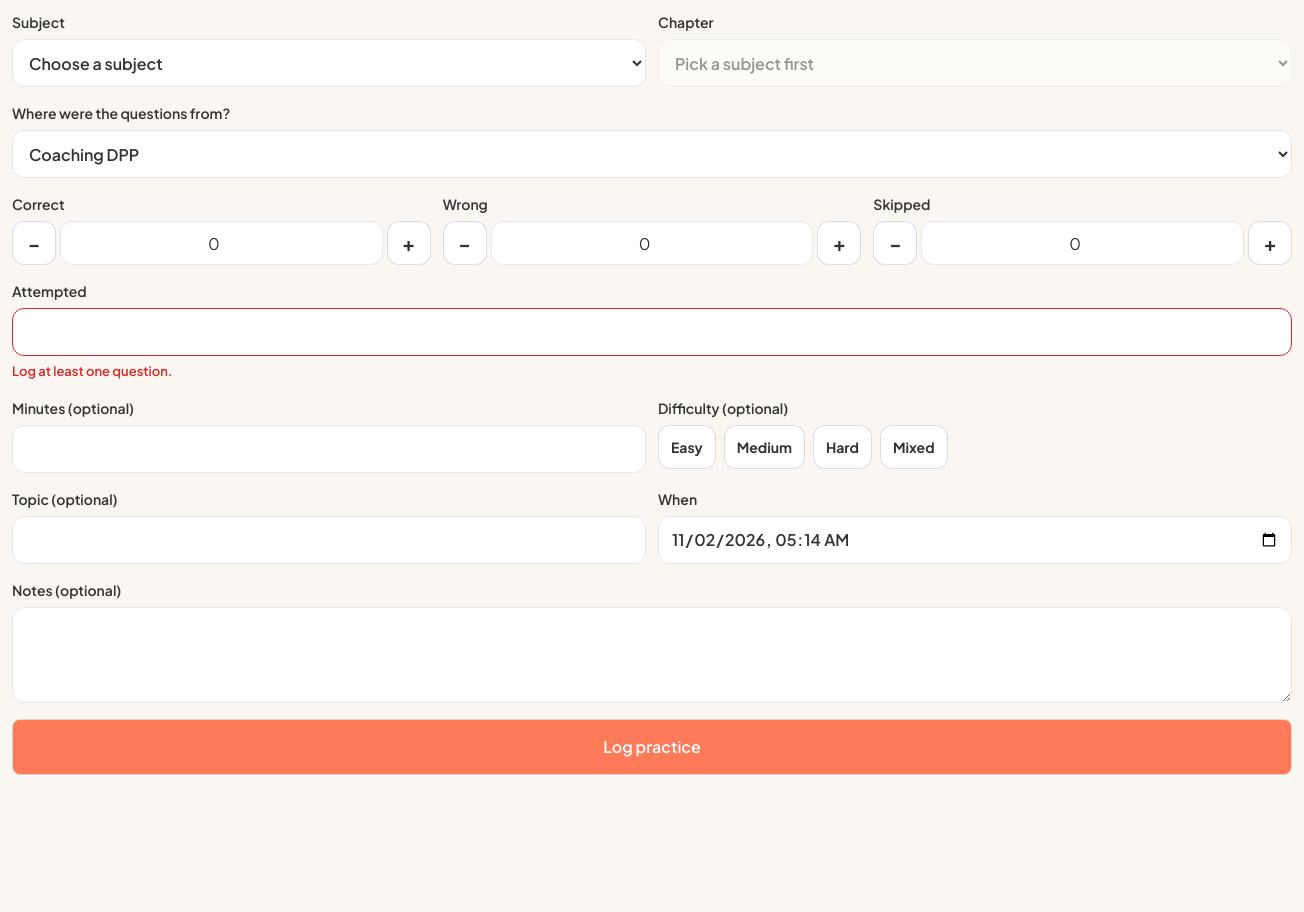
it: PracticeForm › fills `attempted` from correct + wrong + skipped and shows the sum and accuracy
Select "Physics" in the dropdown labelled "Subject": point(329, 63) [12, 39, 646, 87]
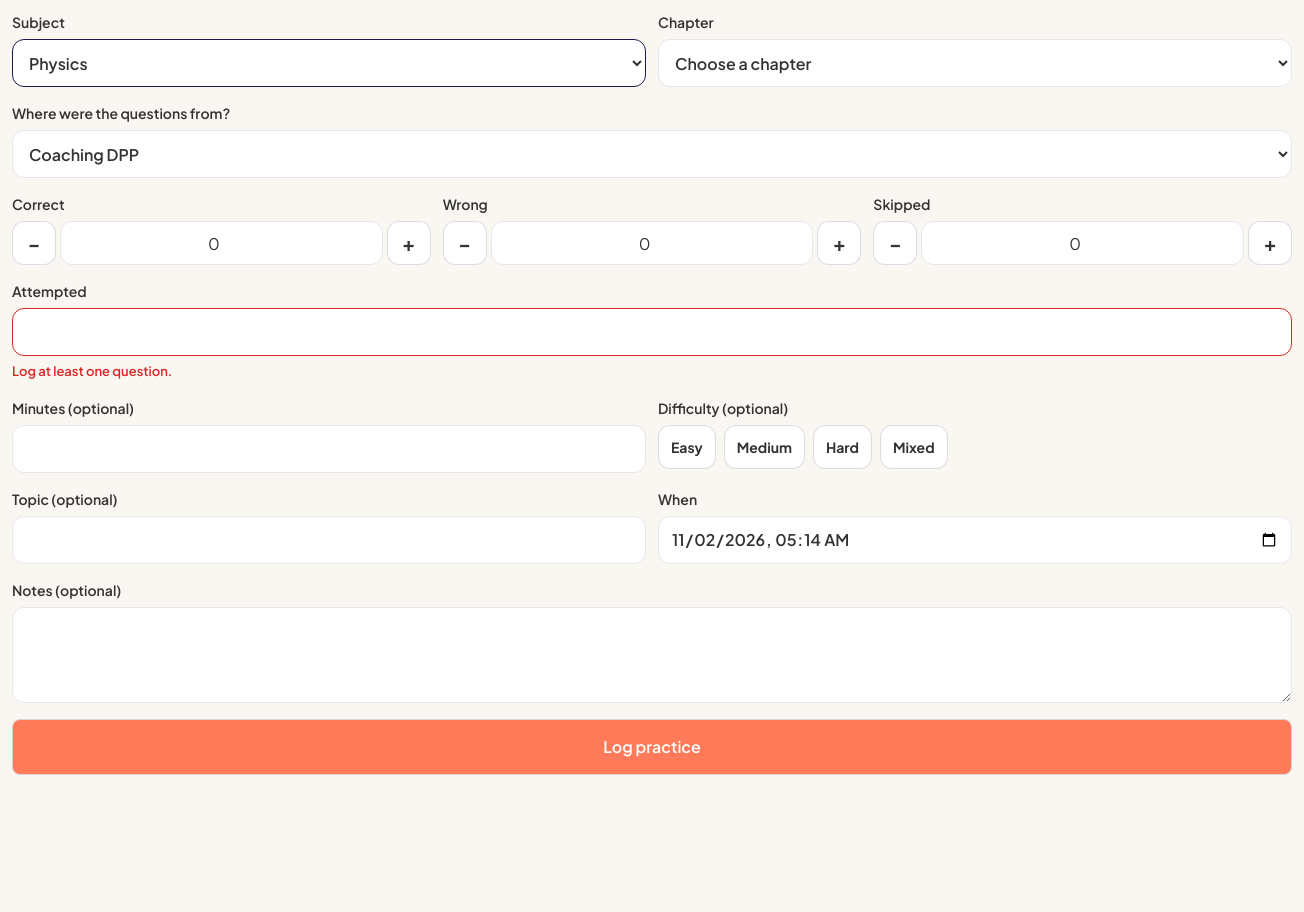
Select "Kinematics" in the dropdown labelled "Chapter": point(975, 63) [658, 39, 1292, 87]
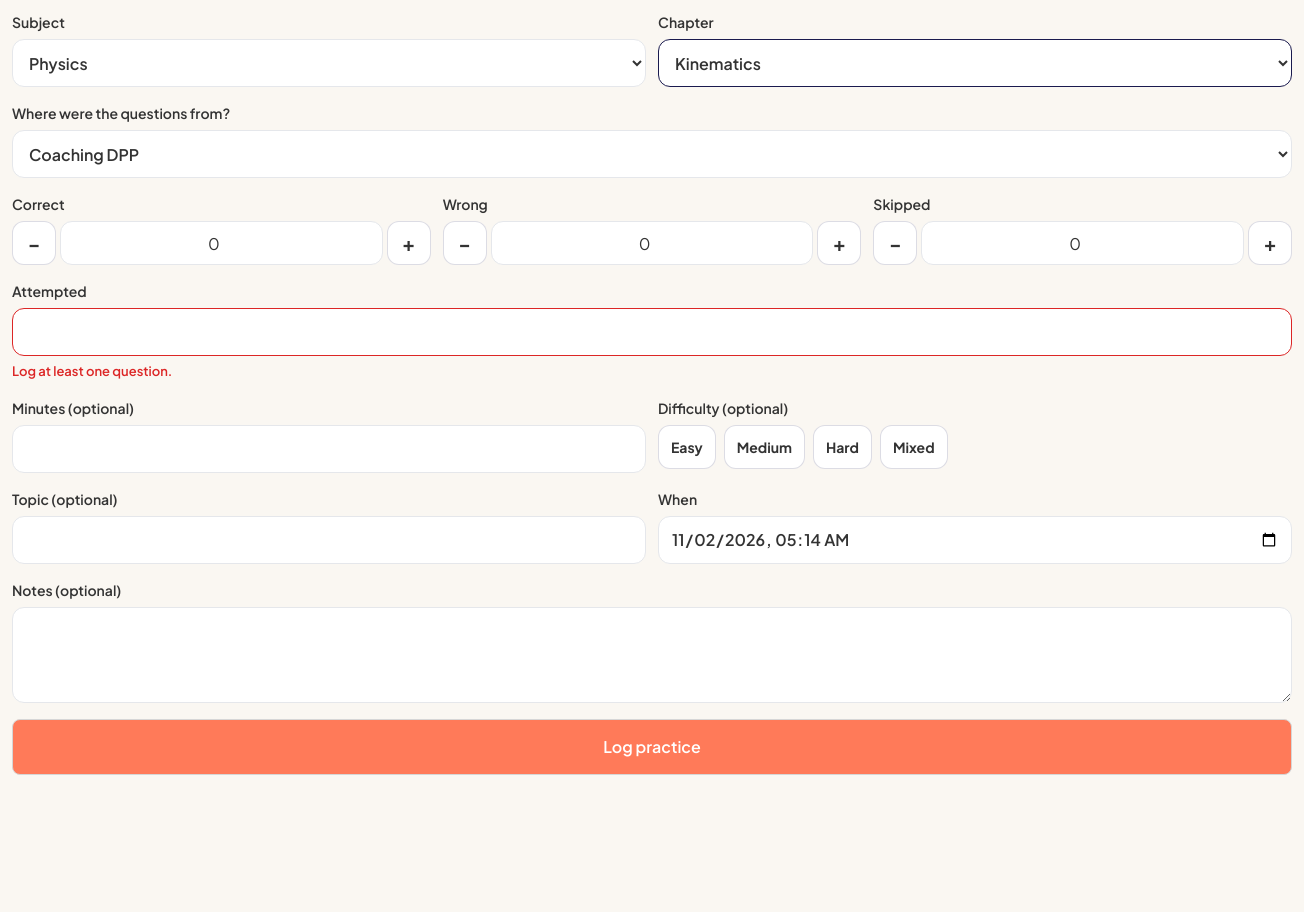
Replace the text in the number field with test id "prac-correct" with "7": point(221, 243) [60, 221, 383, 265]
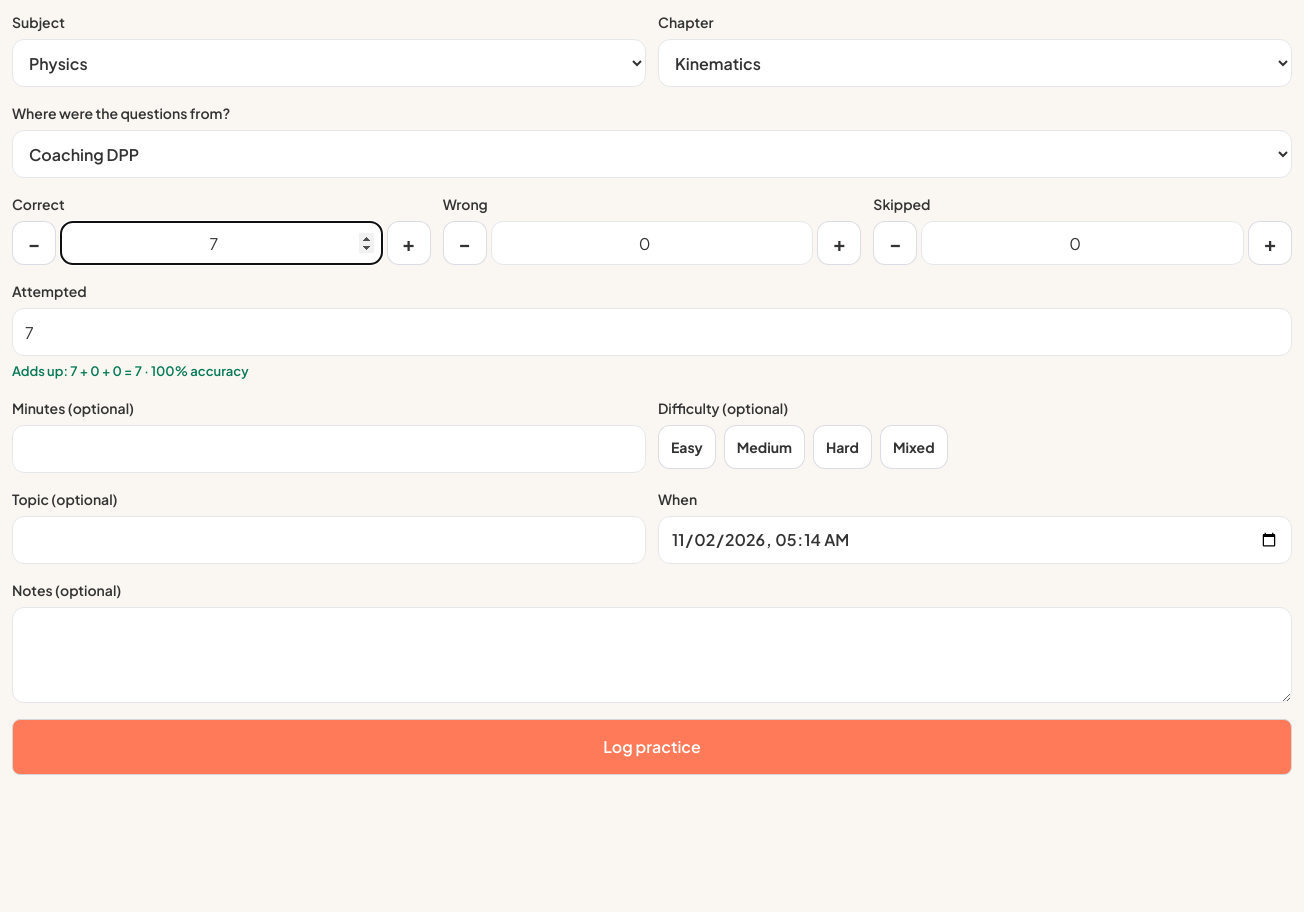
Replace the text in the number field with test id "prac-wrong" with "2": point(652, 243) [491, 221, 813, 265]
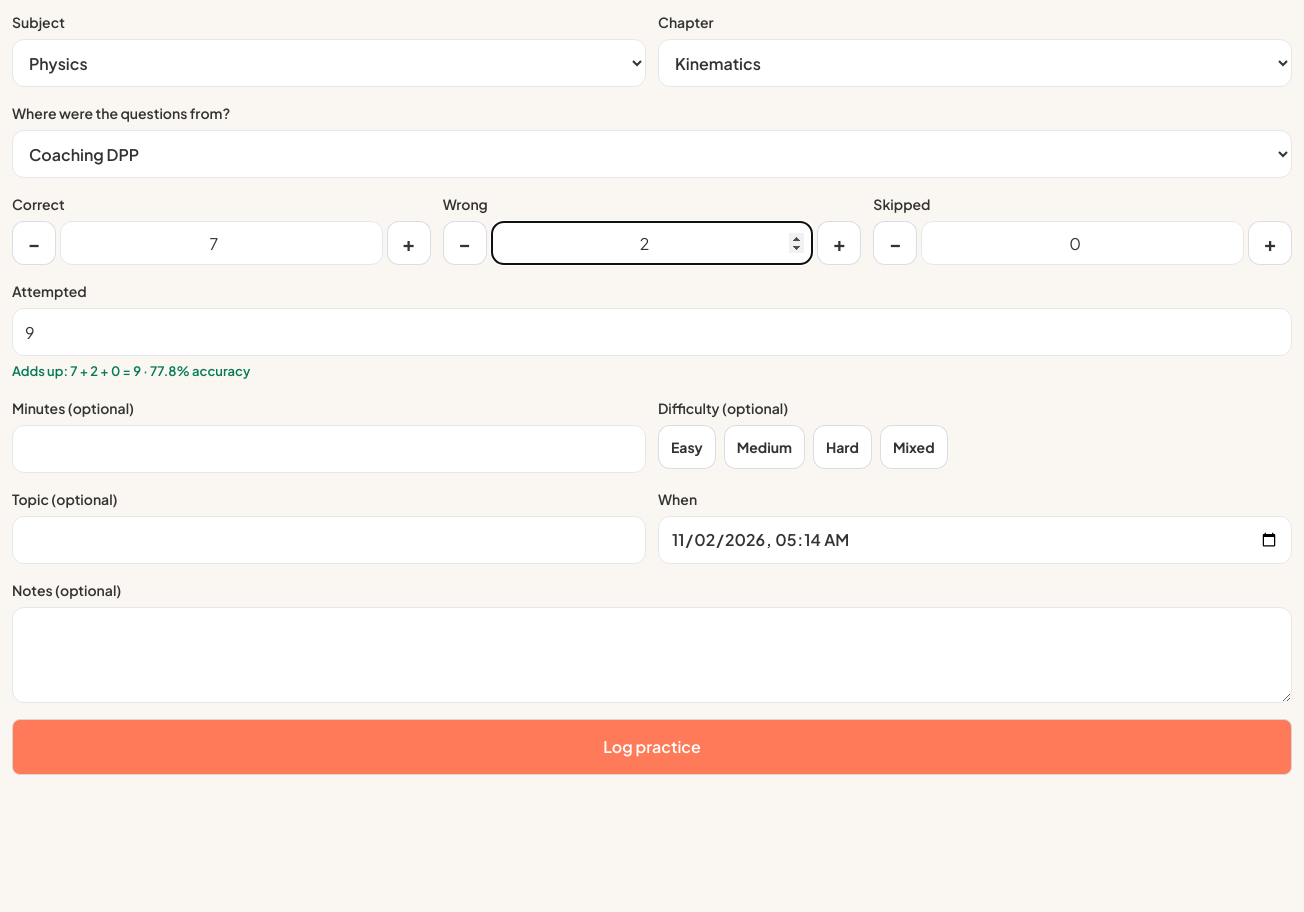
Replace the text in the number field with test id "prac-skipped" with "1": point(1083, 243) [921, 221, 1244, 265]
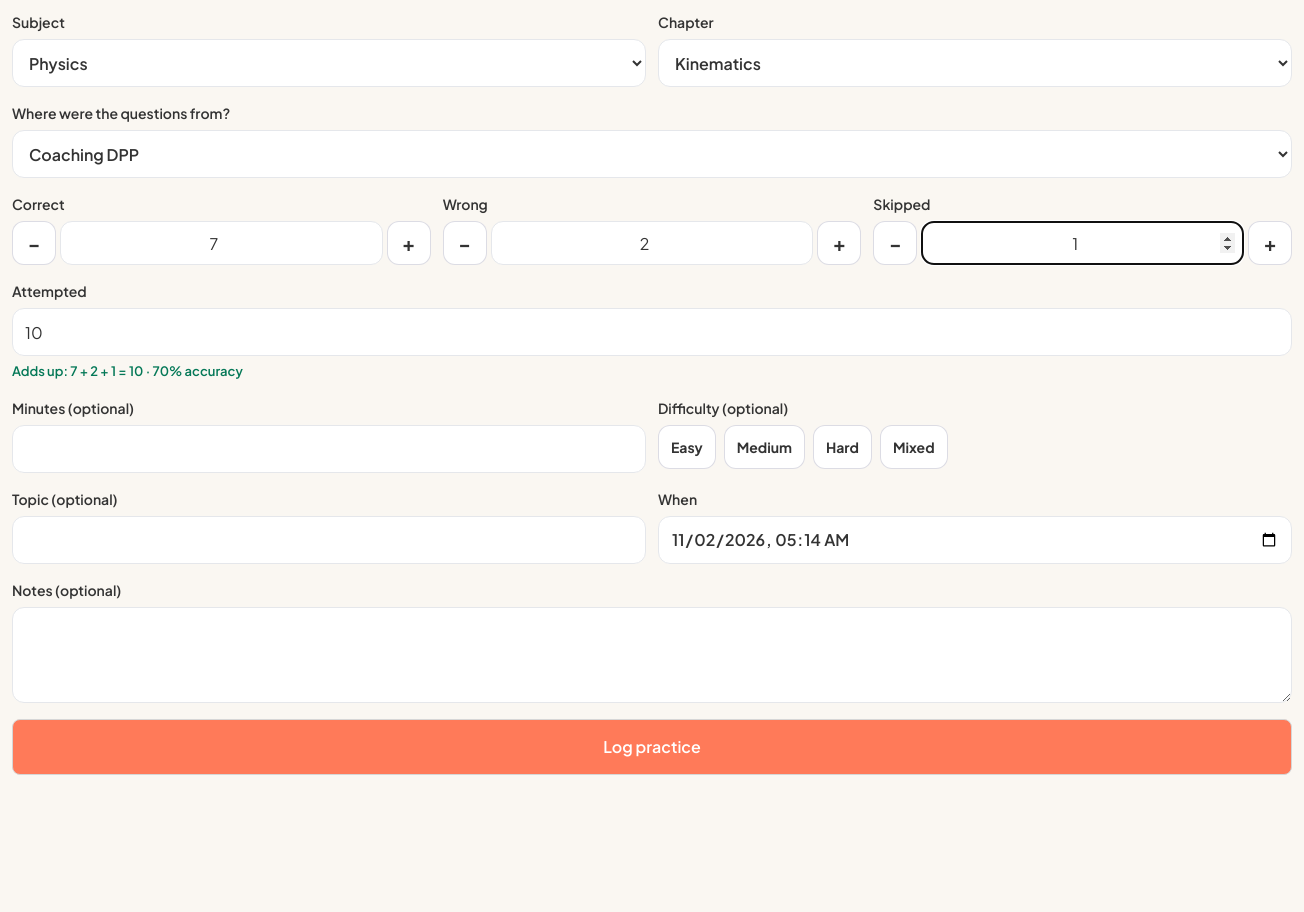
Check: the number field with test id "prac-attempted" holds "10", box [12, 308, 1292, 356]
Check: the message with test id "prac-sum-status" reads "Adds up: 7 + 2 + 1 = 10 · 70% accuracy", box [12, 363, 243, 379]
